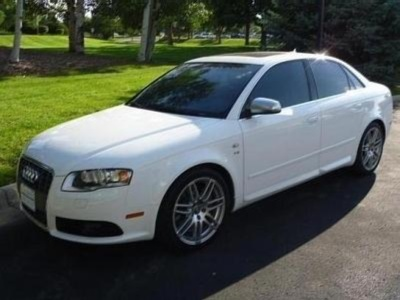car: (8, 48, 398, 265)
